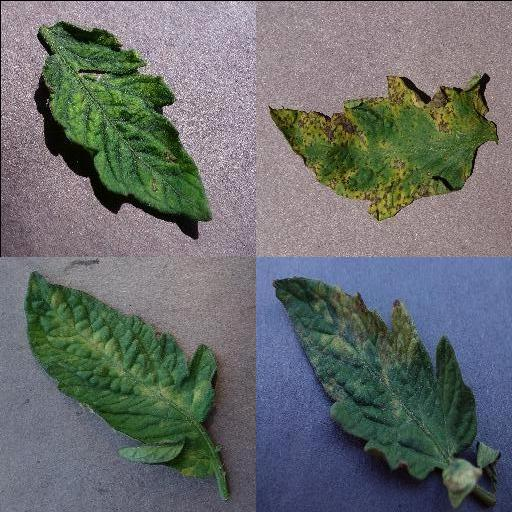Leaf Mold: (271, 274, 477, 478), (23, 269, 217, 441)
Mosaic Virus: (40, 17, 214, 221)
Septoria: (269, 72, 497, 220)
